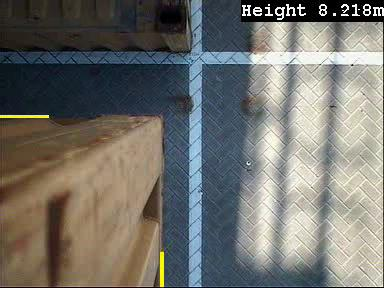groundmarker_2: (162, 44, 260, 105)
